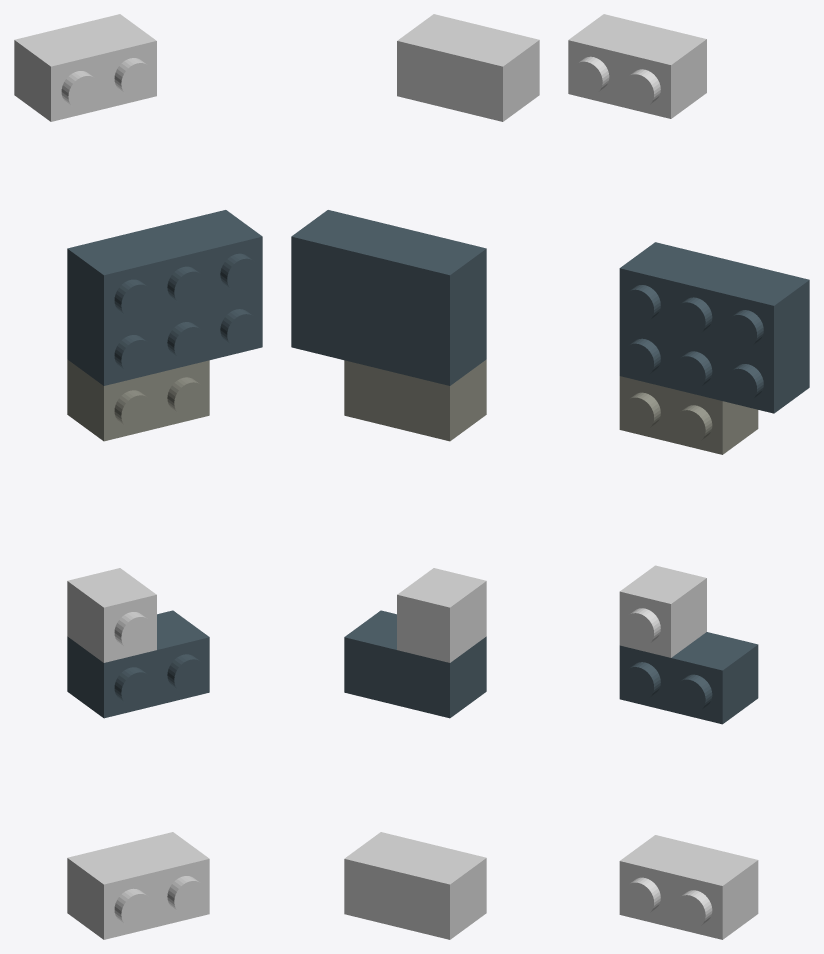
Rendered from current.glb.
3 renders of one model, left to right at view 1: azimuth 30°, elevation 25°; view 2: azimuth 150°, elevation 25°; view 3: azimuth 330°, elevation 25°, orthographic. The views are drawn at different scales.
Parts seen in each view (by area): view 1: world; view 2: world; view 3: world.
Part boxes in pixels (box(x1,y1,x2,y2)): world: box(14, 14, 262, 939); world: box(291, 14, 539, 939); world: box(568, 14, 809, 939).
Bounding box in the file's own units: 32 × 128 × 11.4.
